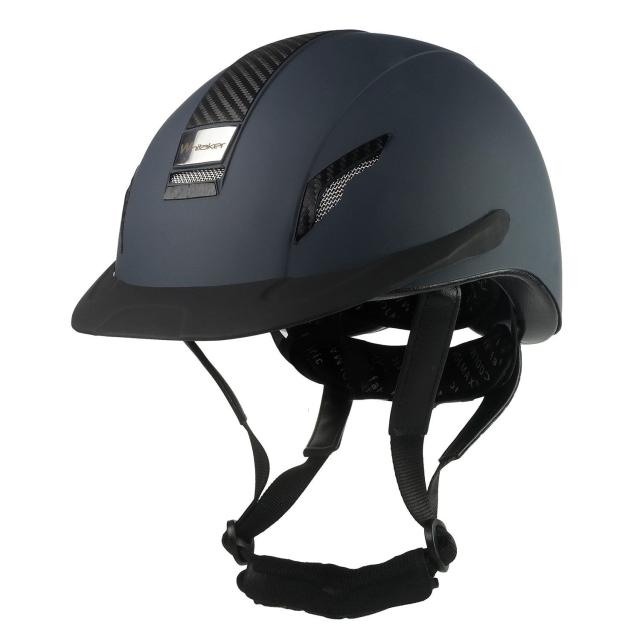Helmet: (18, 19, 630, 347)
